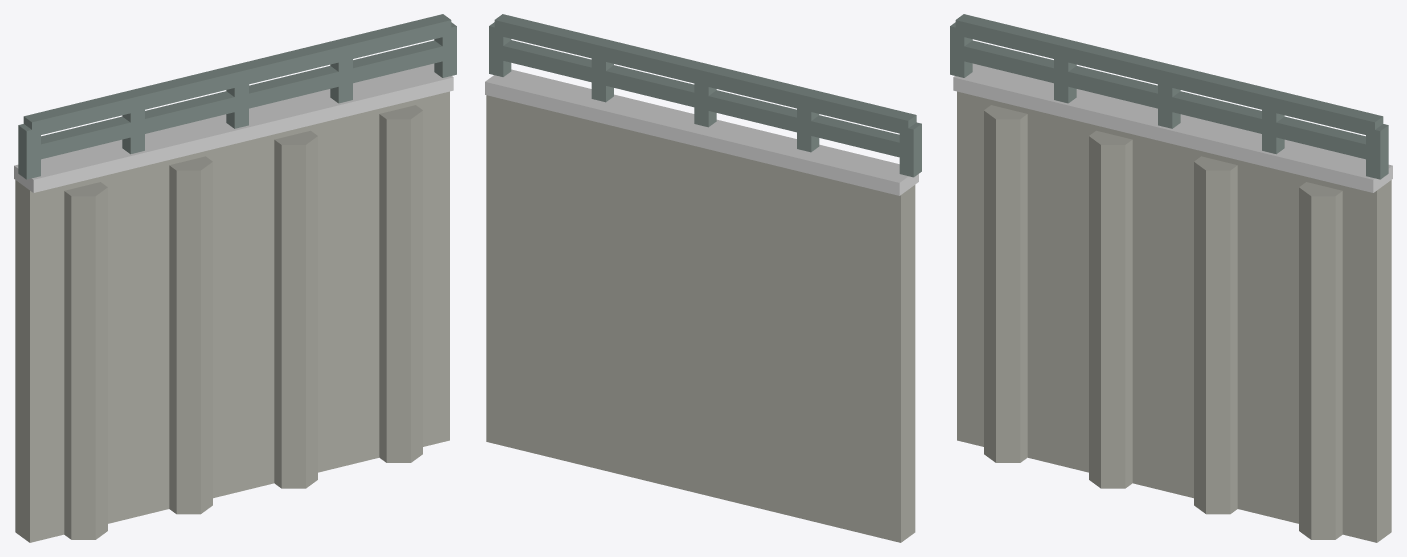
The model's file is SM_MuroTrinchera_Muro_v1_Pilotes_LOD1.fbx.
3 renders of one model, left to right at view 1: azimuth 30°, elevation 25°; view 2: azimuth 150°, elevation 25°; view 3: azimuth 330°, elevation 25°, orthographic.
Visible parts, largest first — view 1: SM_muro_trinchera_v1_LOD1; view 2: SM_muro_trinchera_v1_LOD1; view 3: SM_muro_trinchera_v1_LOD1.
Boxes of the visible parts, x1=… form: SM_muro_trinchera_v1_LOD1: x1=14, y1=14, x2=456, y2=542; SM_muro_trinchera_v1_LOD1: x1=485, y1=14, x2=921, y2=542; SM_muro_trinchera_v1_LOD1: x1=950, y1=14, x2=1392, y2=542.
Size of the model in its own units: 10.22 by 9.57 by 1.2.
